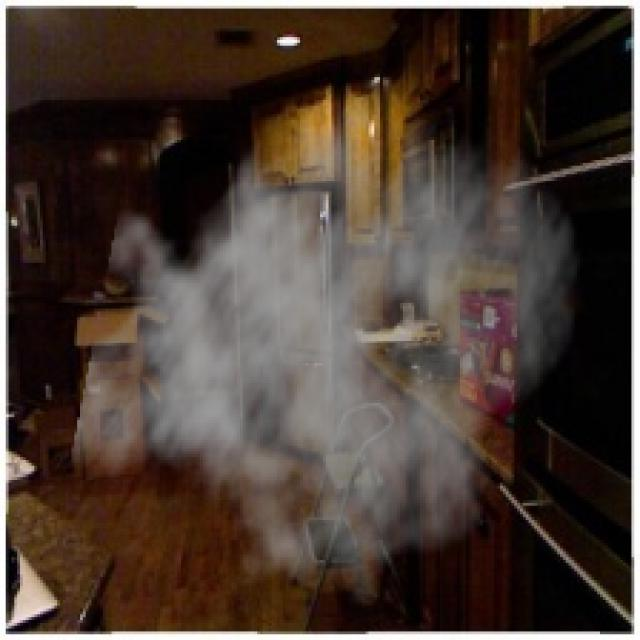smoke: (68, 69, 583, 608)
